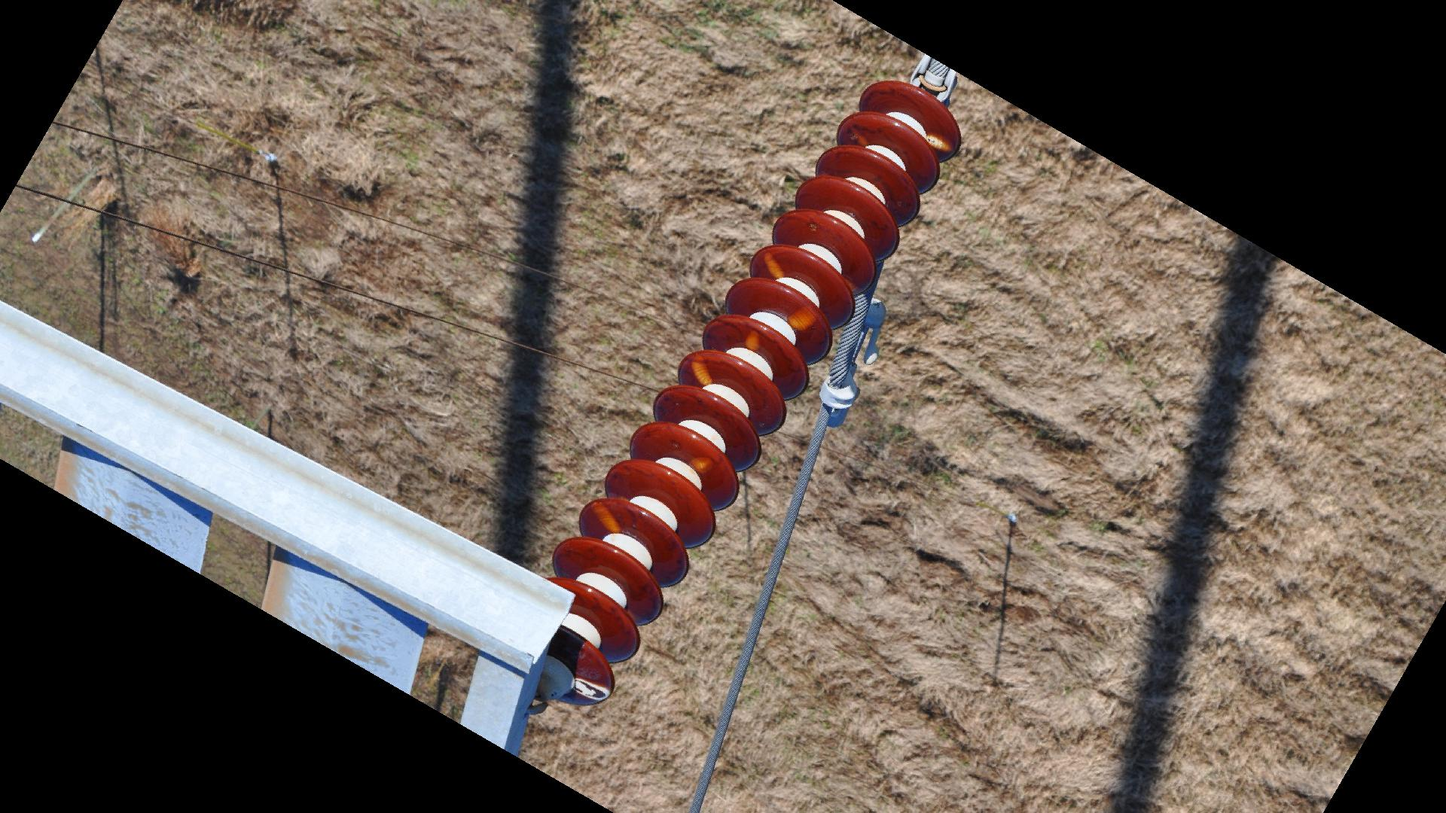insulator: (532, 75, 966, 711)
insulator_flashover: (591, 501, 622, 535), (786, 303, 820, 333), (691, 354, 715, 387), (763, 250, 785, 280), (923, 132, 953, 154), (688, 455, 714, 474), (744, 330, 761, 352)
